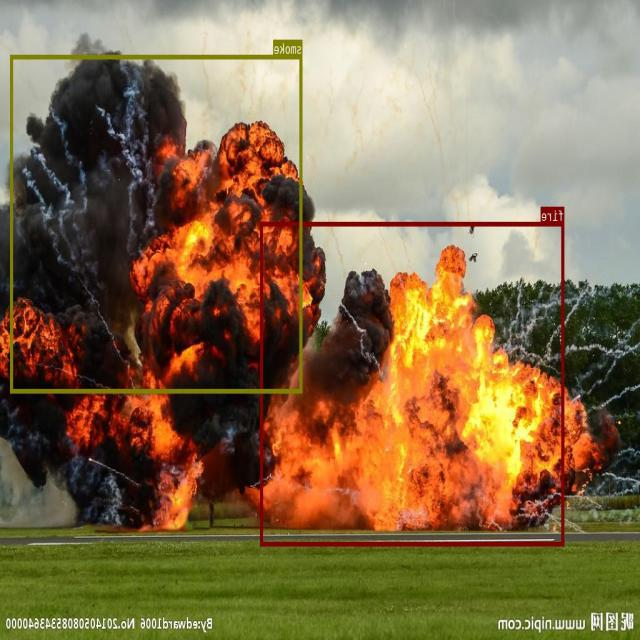fire: (261, 222, 565, 546)
smoke: (11, 55, 303, 392)
